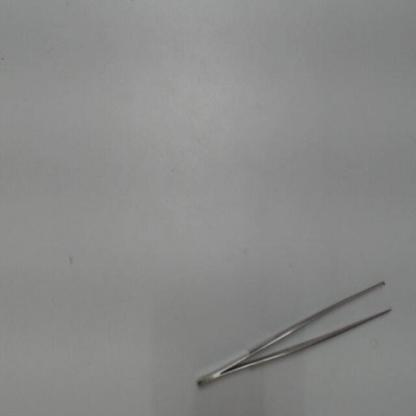Gillies Toothed Dissector: (190, 273, 400, 395)
